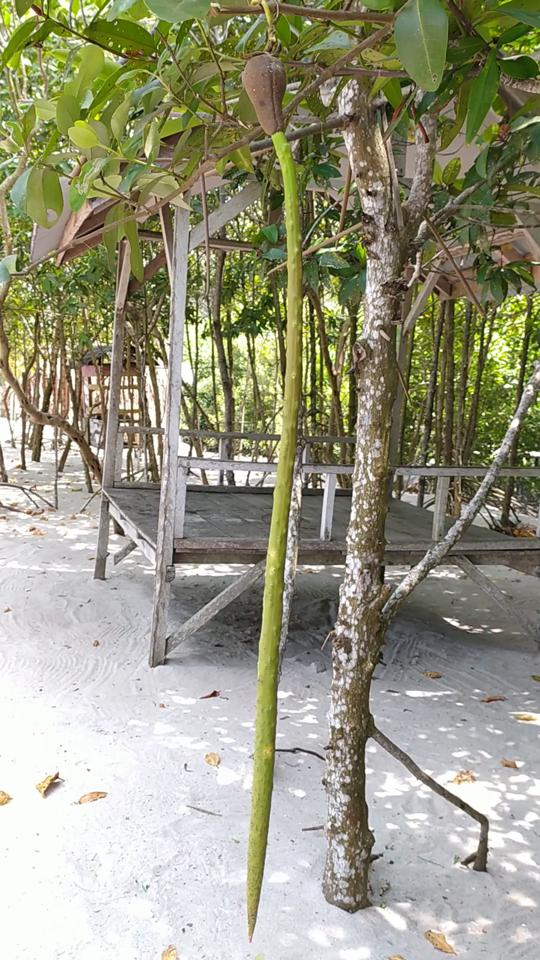mentah: (230, 29, 313, 959)
